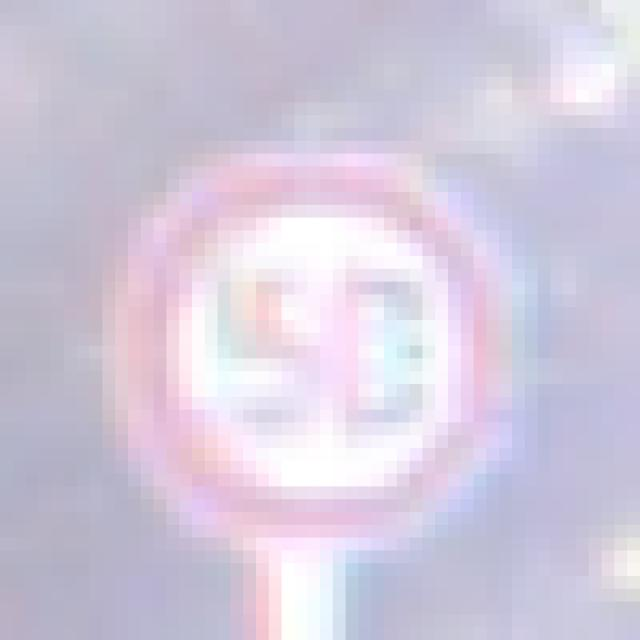Limite-50: (100, 146, 506, 545)
